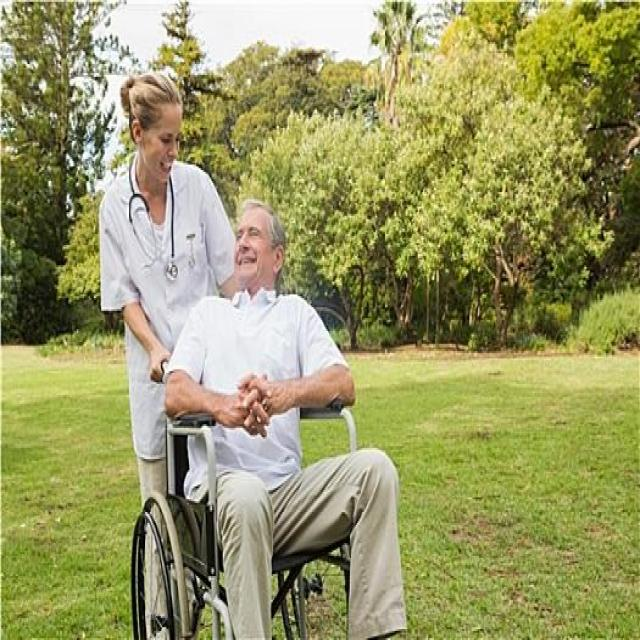wheelchairs: (124, 349, 389, 638)
